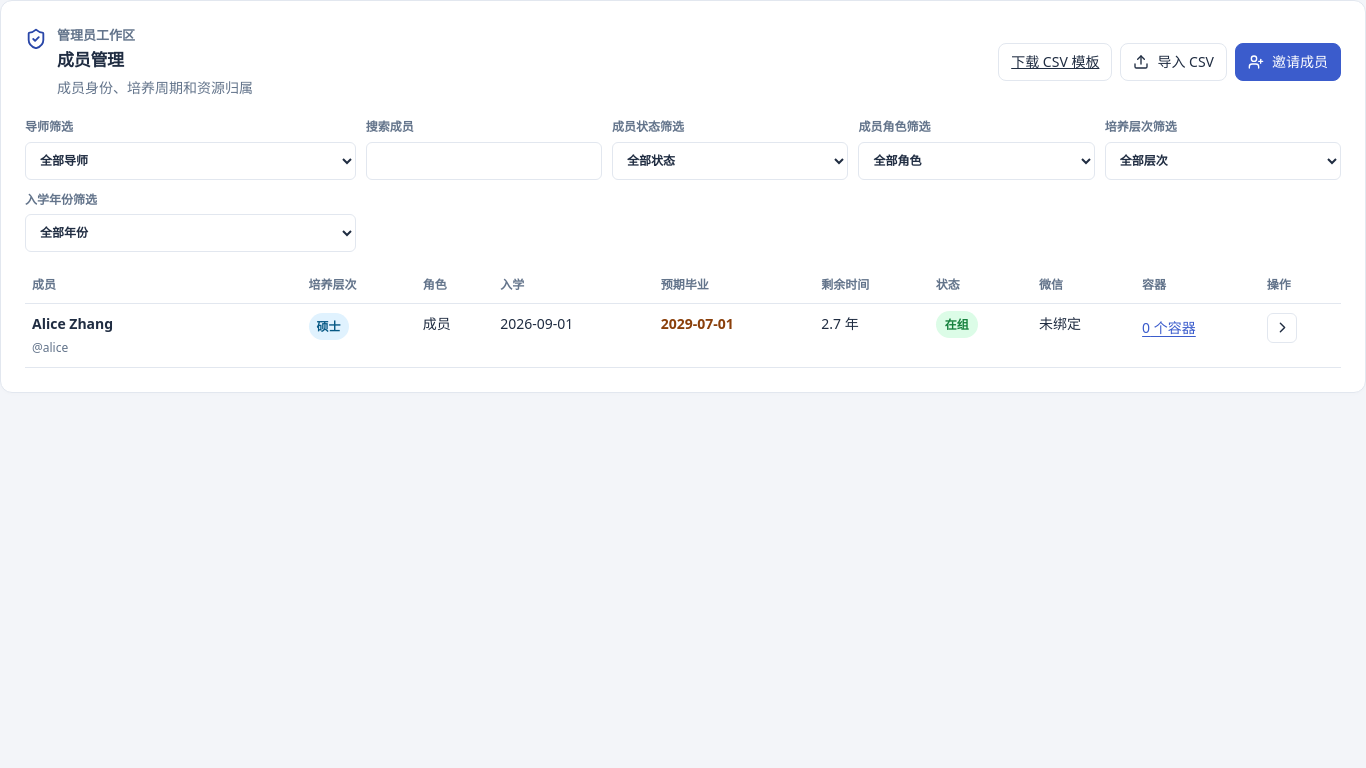
Test: reloads the directory on an optimistic version conflict
expect the text "Alice Zhang" is shown: met, box [32,314,113,333]
Click the button named "打开 Alice Zhang" at {"x": 1282, "y": 328}, box [1267,313,1297,343]
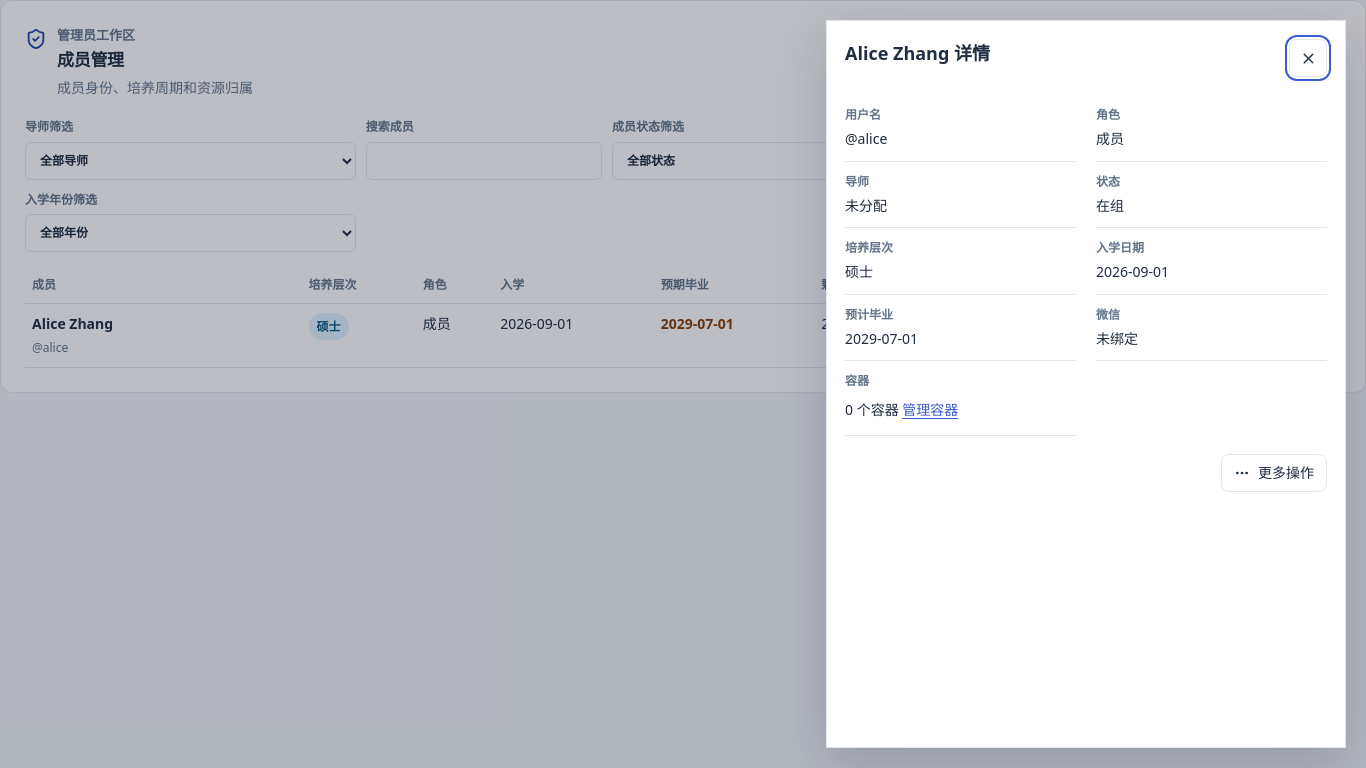
Click the button with aria-label "Alice Zhang 的更多操作" at {"x": 1274, "y": 473}, box [1221,454,1327,492]
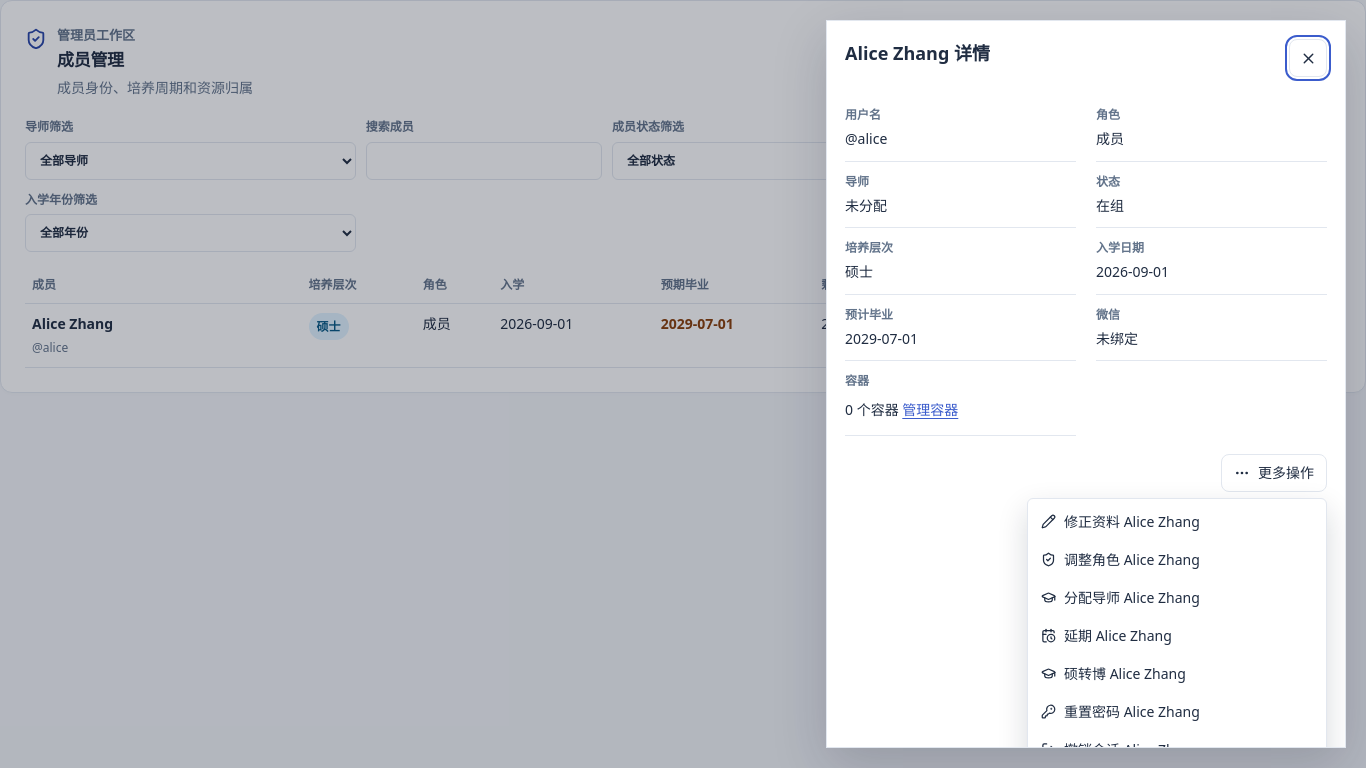
Click the button "延期 Alice Zhang" at {"x": 1118, "y": 635}, box [1032,617,1322,655]
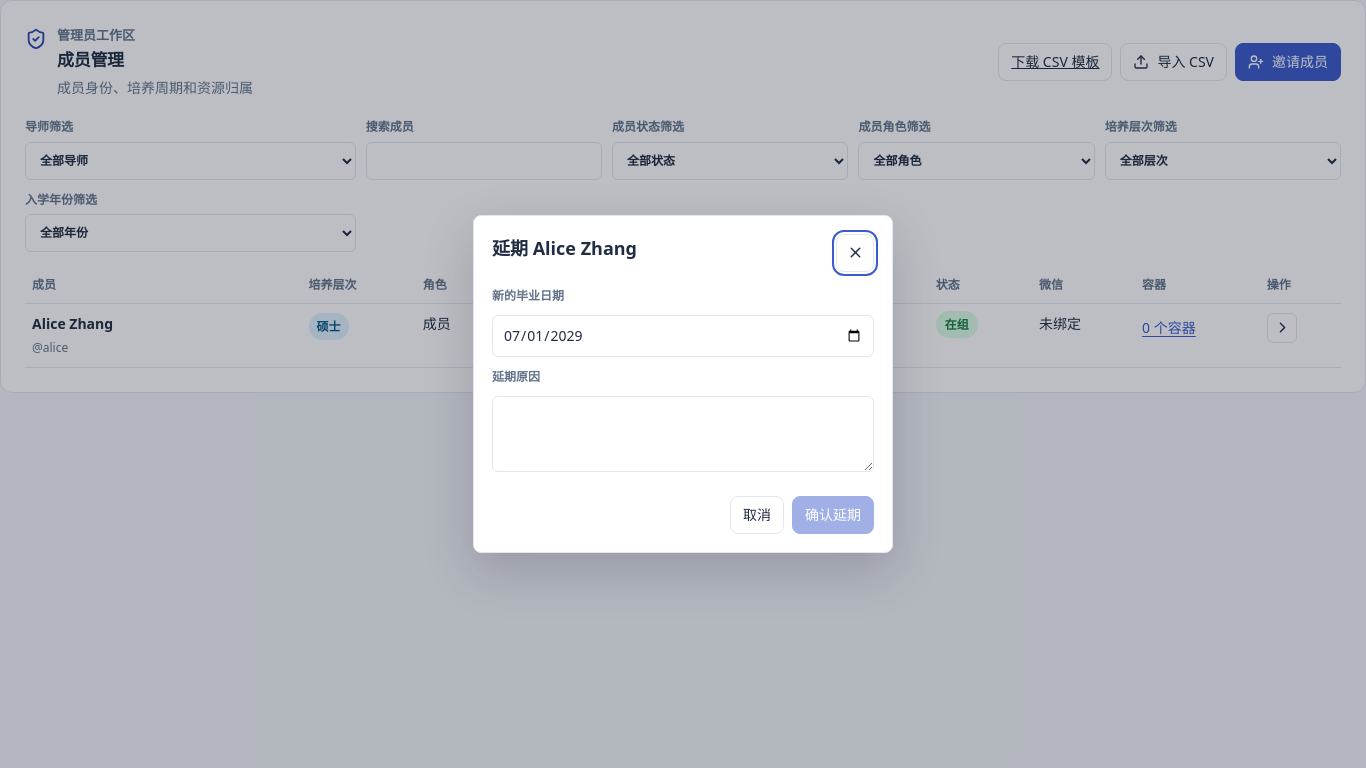
Type "2030-07-01" into the date field labelled "新的毕业日期" at {"x": 683, "y": 336}, box [492,315,874,357]
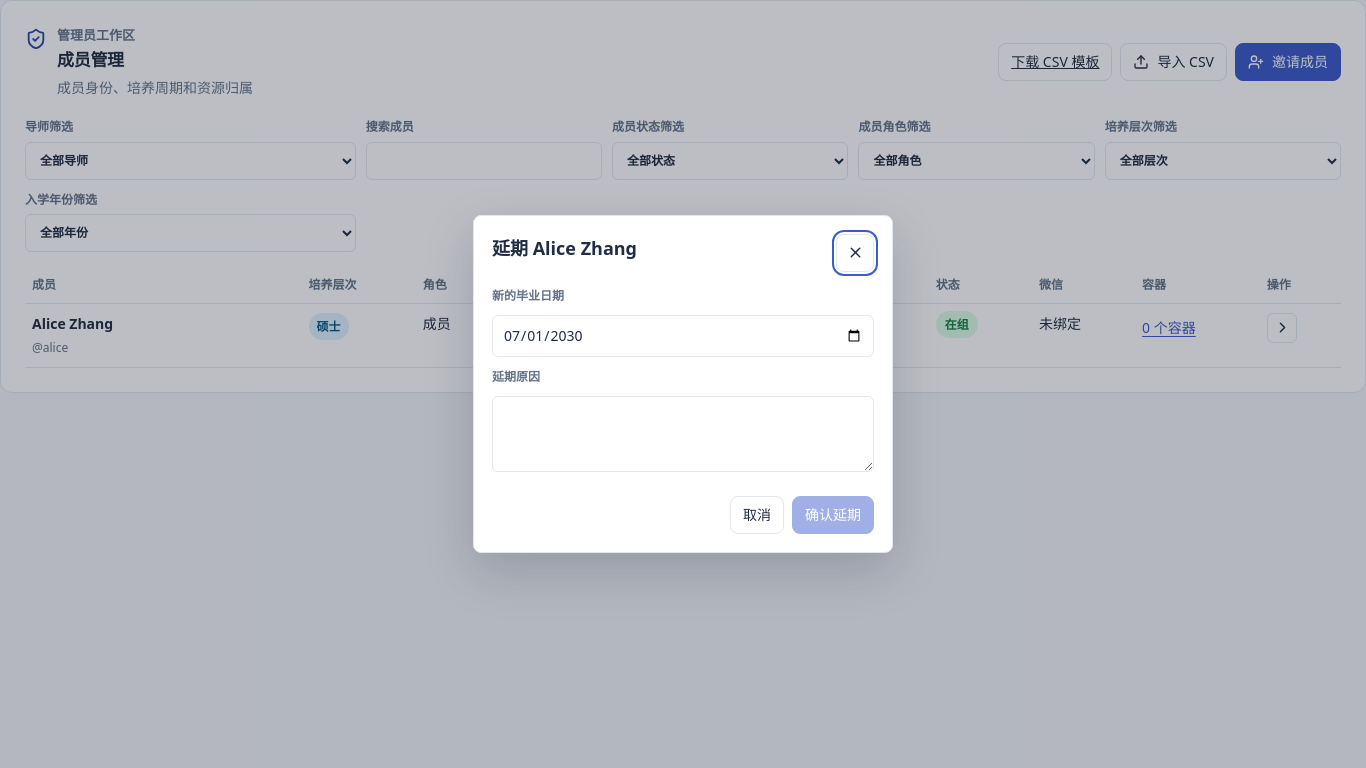
Type "实验延期" into the text box labelled "延期原因" at {"x": 683, "y": 434}, box [492,396,874,472]
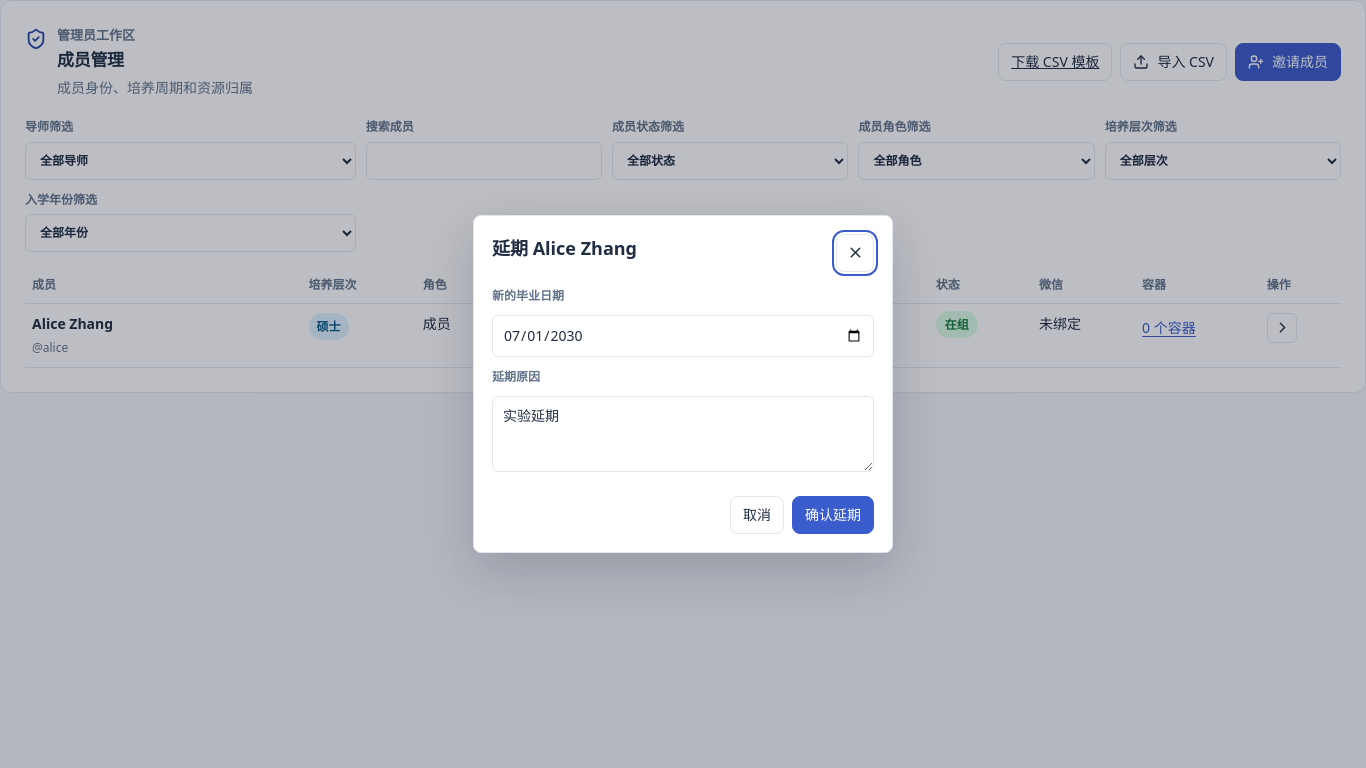
Click the button "确认延期" at {"x": 833, "y": 515}, box [792,496,874,534]
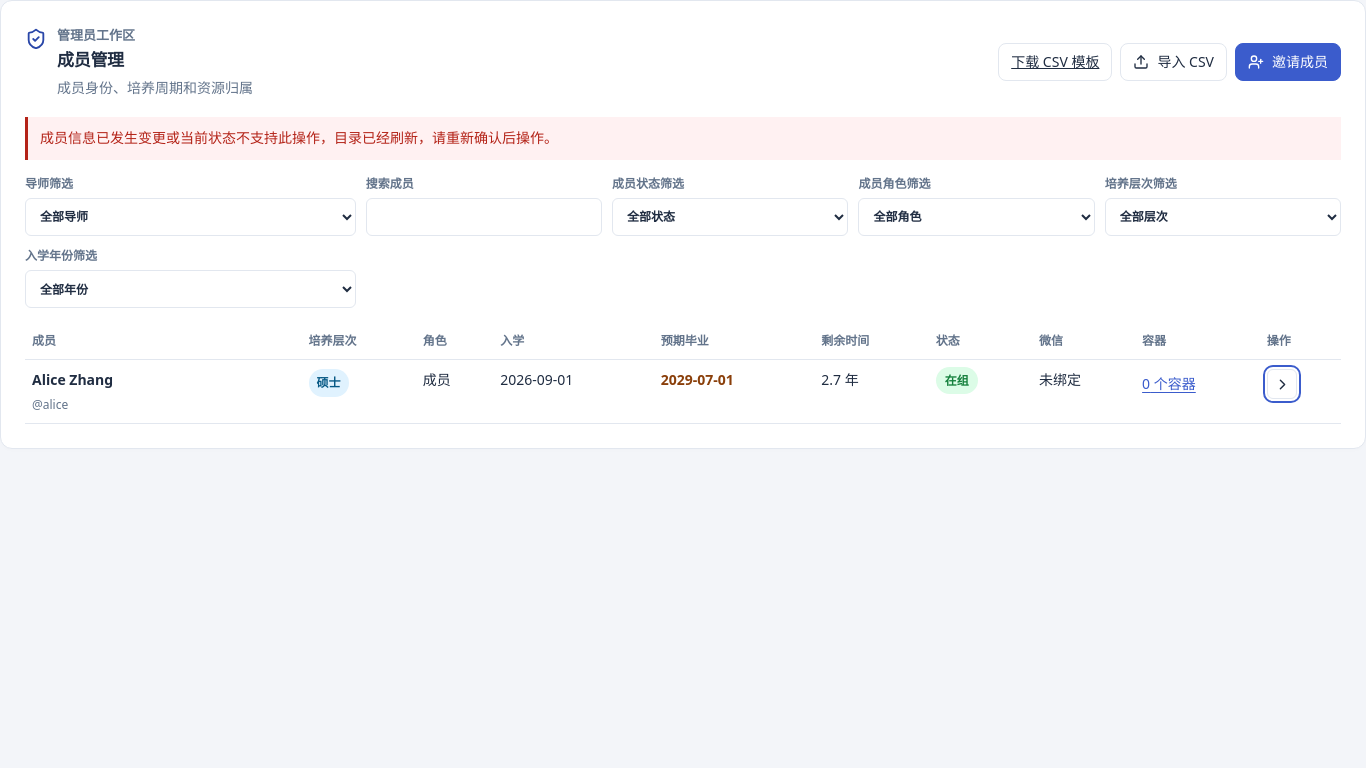
expect the message shows "成员信息已发生变更或当前状态不支持此操作": met, box [40,128,558,147]
